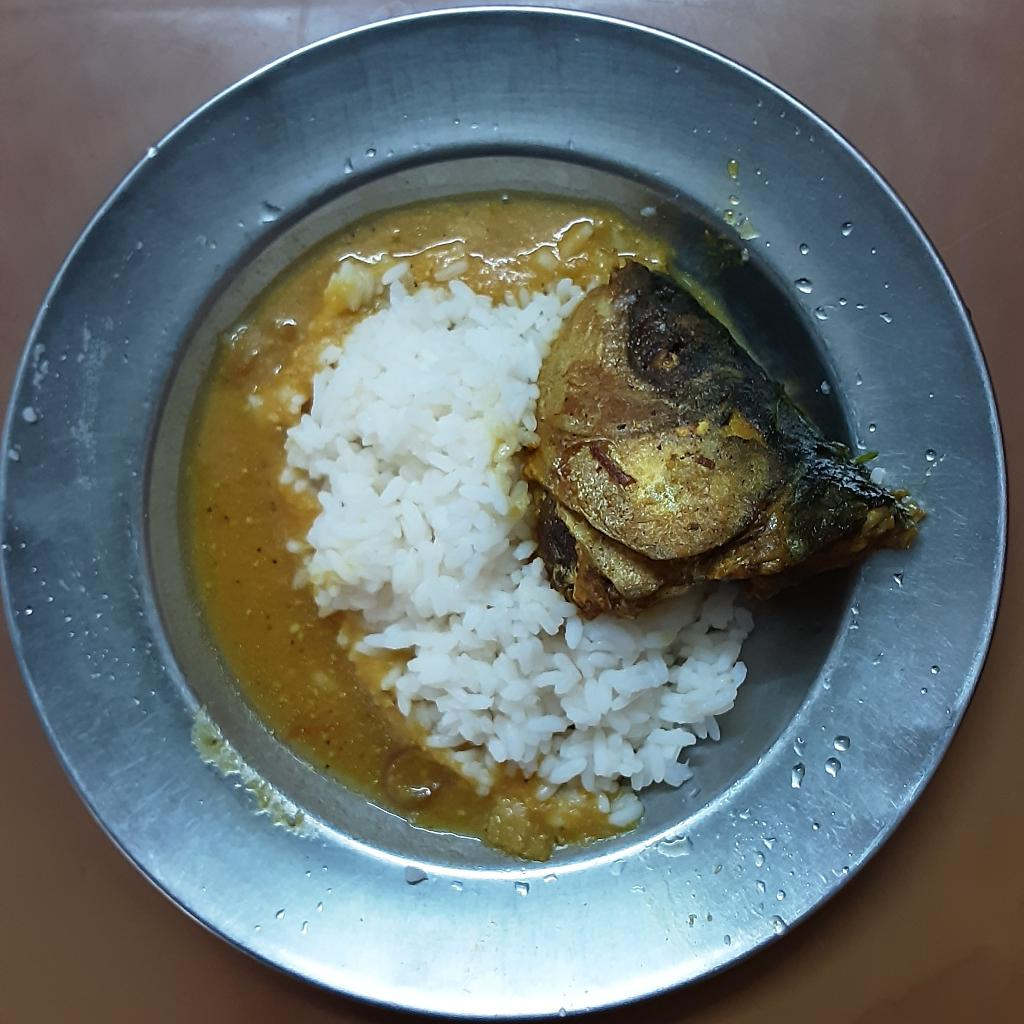daal: (181, 192, 669, 862)
fish: (525, 258, 922, 611)
rice: (279, 260, 753, 825)
